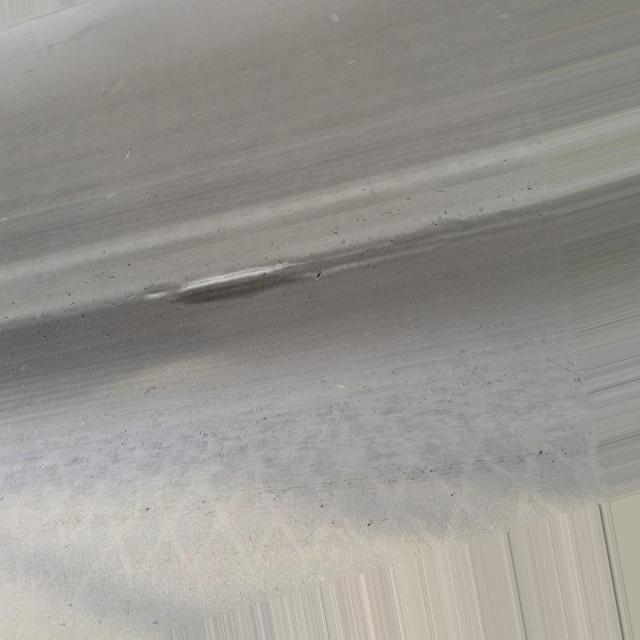impact damage: (147, 260, 319, 307)
